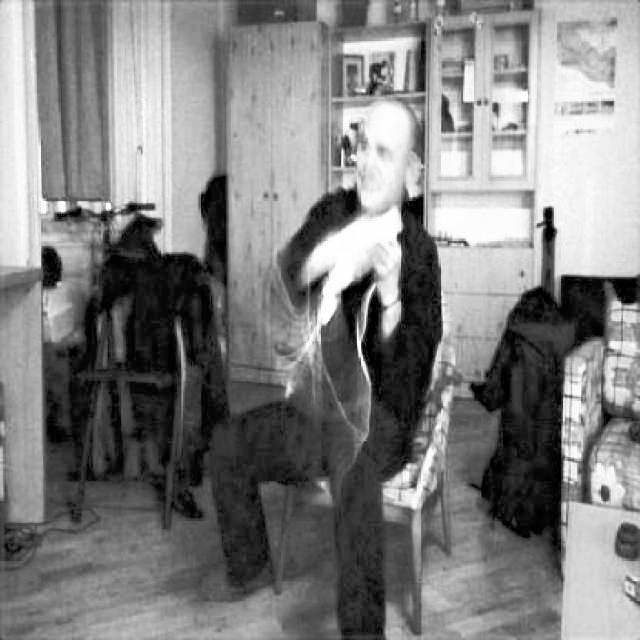Person: (199, 92, 447, 640)
